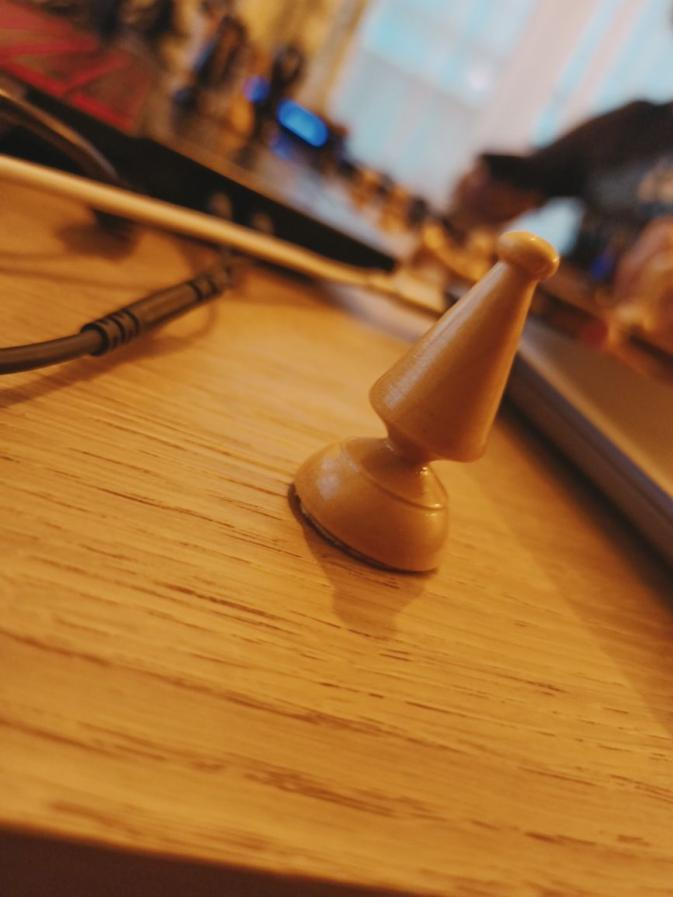wbishop: (292, 232, 566, 574)
